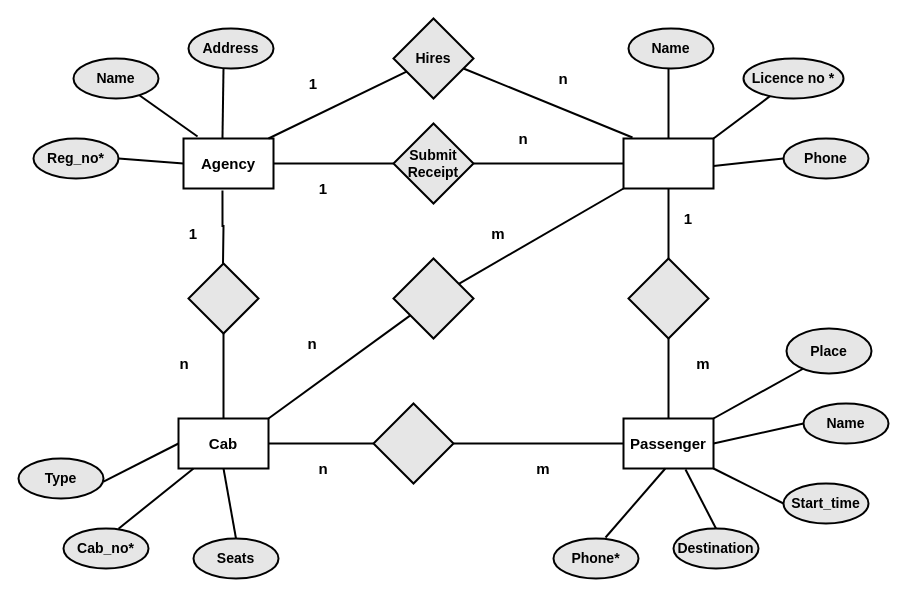
Some shapes in this 906 by 596 pixel diagram are drawn without their labels. Each missing label, with the centre of its shape:
"Books" goes at pixel 413 443.
"Driver" goes at pixel 668 163.
"Drives" goes at pixel 433 298.
"Owns" goes at pixel 223 298.
"Return Receipt" goes at pixel 668 298.
